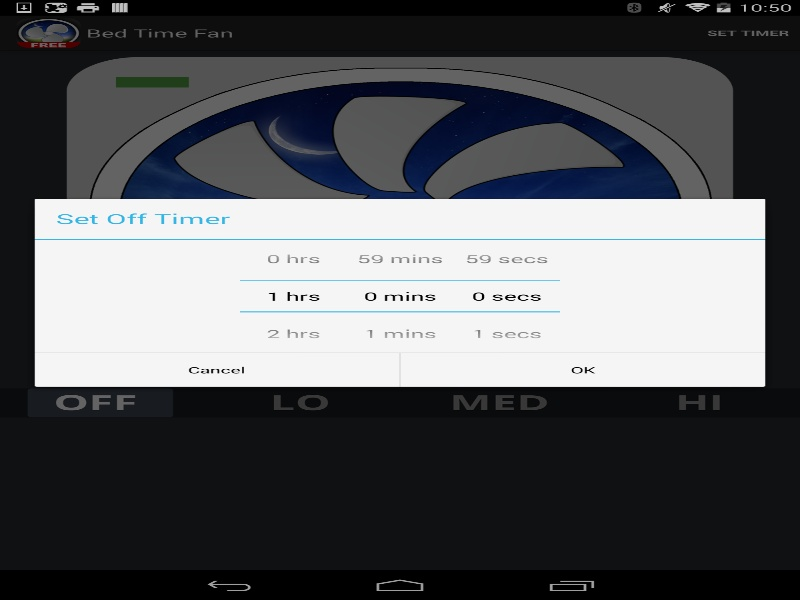Button: (34, 353, 399, 386), (400, 353, 765, 386), (346, 240, 453, 281), (346, 311, 453, 352), (453, 240, 560, 281), (453, 311, 560, 352), (240, 240, 346, 281), (240, 311, 346, 352)
Input: (346, 281, 453, 311), (453, 281, 560, 311), (240, 281, 346, 311)
